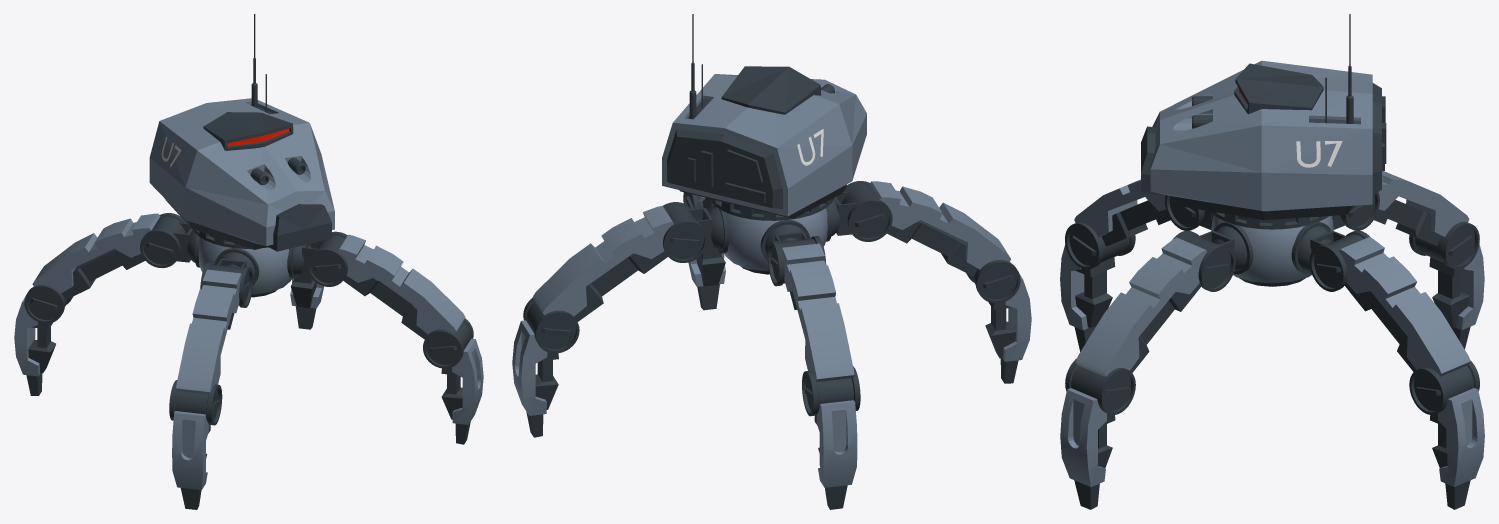
File: LP POLICE MECH.glb
3 views of the same model, side by side, from view 1: azimuth 30°, elevation 25°; view 2: azimuth 150°, elevation 25°; view 3: azimuth 270°, elevation 25° (orthographic). The views are drawn at different scales.
Visible parts, largest first — view 1: body, Cylinder.002, Cylinder.007, Cylinder.001, Cylinder.004, Cylinder.003, Cylinder.008, Sphere, Cylinder.006, Sphere.001, Sphere.003; view 2: body, Cylinder.005, Cylinder.001, Cylinder.007, Cylinder.008, Cylinder.006, Cylinder.004, Sphere, Cylinder.003, Sphere.002, Sphere.004; view 3: body, Cylinder.005, Cylinder.002, Cylinder.006, Cylinder.003, Cylinder.004, Cylinder.008, Cylinder.007, Cylinder.001, Sphere, Sphere.002, Sphere.003.
Part boxes in pixels (<box>): body: <box>149,14,334,251</box>; Cylinder.002: <box>307,231,465,339</box>; Cylinder.007: <box>32,213,186,299</box>; Cylinder.001: <box>176,262,253,394</box>; Cylinder.004: <box>169,380,222,509</box>; Cylinder.003: <box>423,318,483,444</box>; Cylinder.008: <box>14,285,72,395</box>; Sphere: <box>194,235,297,297</box>; Cylinder.006: <box>290,273,324,329</box>; Sphere.001: <box>172,222,196,262</box>; Sphere.003: <box>292,240,323,276</box>; body: <box>662,14,866,220</box>; Cylinder.005: <box>533,202,707,321</box>; Cylinder.001: <box>842,181,1010,276</box>; Cylinder.007: <box>767,236,854,381</box>; Cylinder.008: <box>802,366,860,509</box>; Cylinder.006: <box>512,297,579,437</box>; Cylinder.004: <box>966,260,1031,383</box>; Sphere: <box>713,205,831,274</box>; Cylinder.003: <box>683,192,725,310</box>; Sphere.002: <box>687,206,724,251</box>; Sphere.004: <box>829,191,856,236</box>; body: <box>1141,14,1386,229</box>; Cylinder.005: <box>1309,230,1470,376</box>; Cylinder.002: <box>1075,230,1235,376</box>; Cylinder.006: <box>1409,360,1484,509</box>; Cylinder.003: <box>1060,358,1135,509</box>; Cylinder.004: <box>1060,222,1135,351</box>; Cylinder.008: <box>1409,222,1484,349</box>; Cylinder.007: <box>1340,171,1469,245</box>; Cylinder.001: <box>1074,179,1204,246</box>; Sphere: <box>1211,214,1333,286</box>; Sphere.002: <box>1297,226,1346,271</box>; Sphere.003: <box>1198,226,1247,271</box>.
Bounding box in the file's own units: 6.93 × 7.86 × 6.93.
